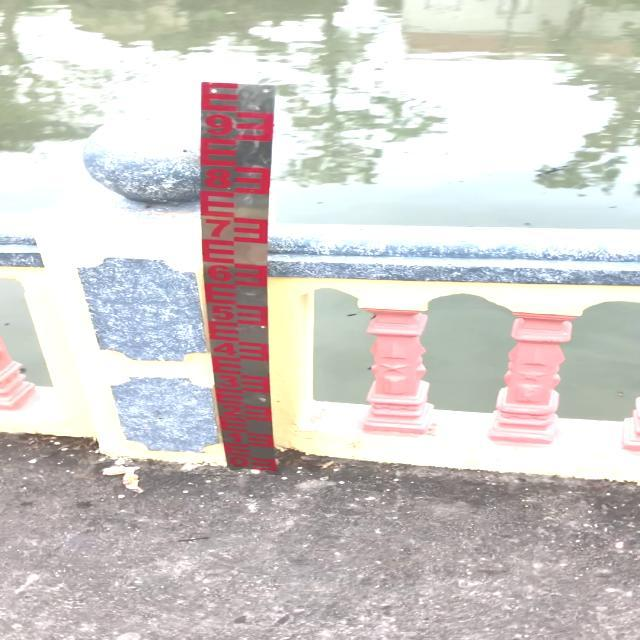ruler: (190, 74, 302, 482)
value: (202, 108, 237, 140), (201, 164, 236, 194), (201, 213, 235, 242), (202, 261, 238, 287), (210, 337, 241, 361), (206, 302, 239, 324), (213, 371, 244, 394), (216, 401, 247, 422), (224, 426, 252, 446), (226, 452, 250, 470)
